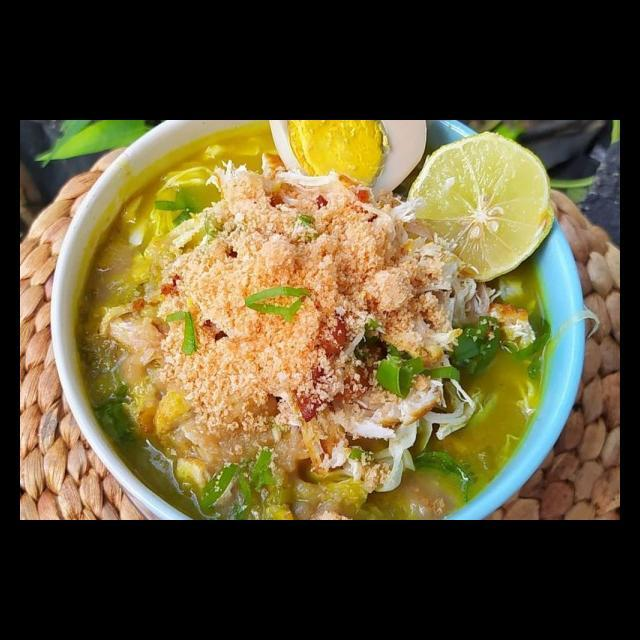Soto: (79, 131, 554, 519)
